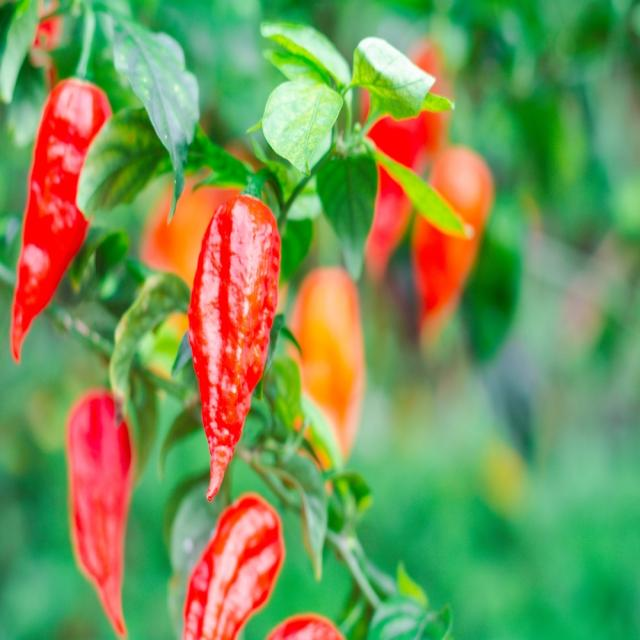Ripe: (10, 79, 111, 361), (189, 195, 281, 500), (182, 493, 285, 639), (266, 613, 345, 640)
